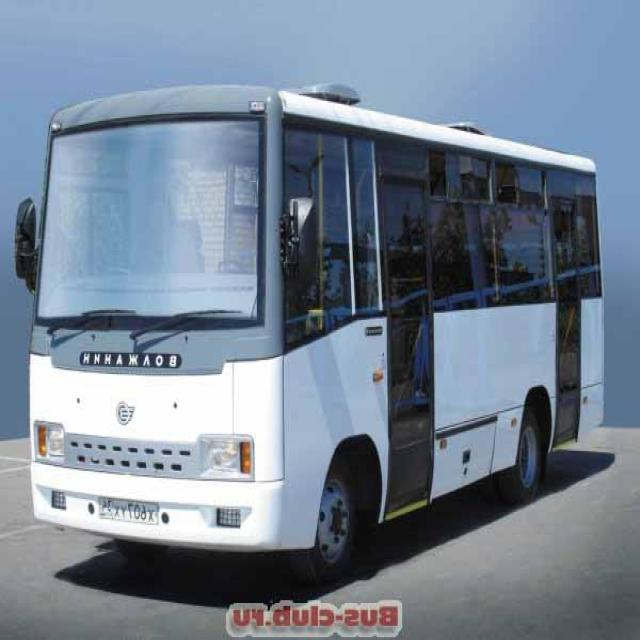bus: (11, 77, 612, 572)
